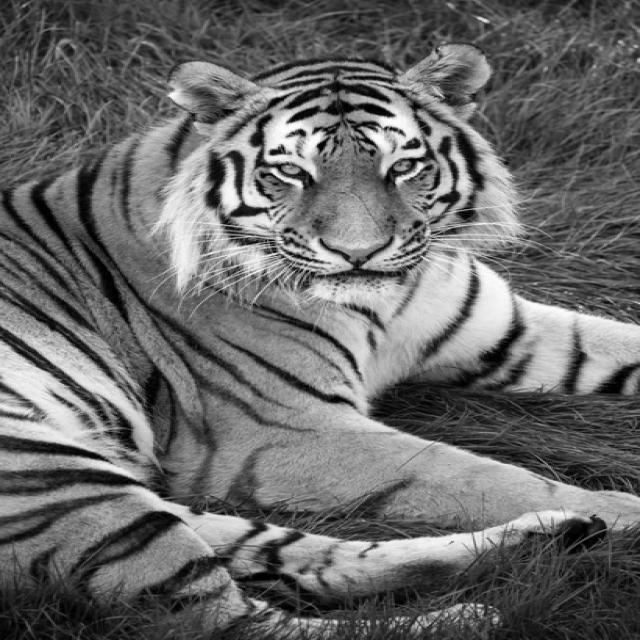Animal: (1, 43, 640, 635)
